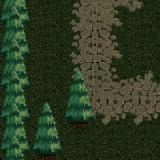Obstacle: (0, 1, 32, 160), (65, 101, 95, 132), (32, 132, 65, 160)
